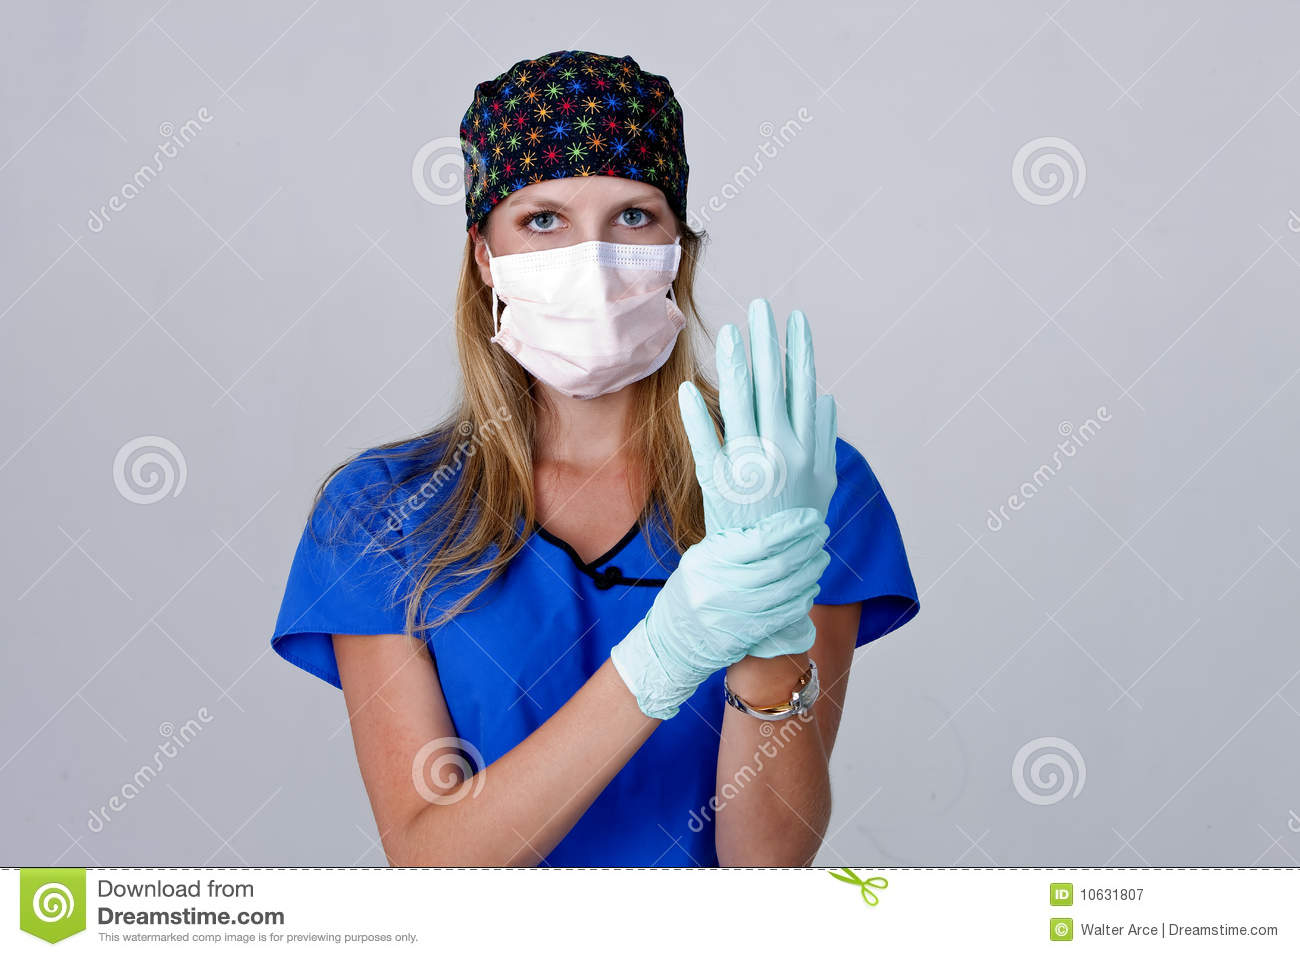mask: (485, 244, 710, 396)
